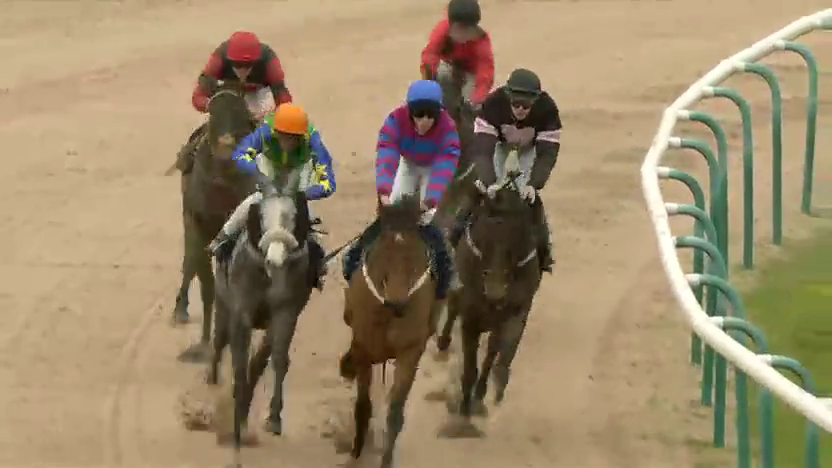jockey: (473, 69, 563, 208), (381, 86, 455, 226), (241, 107, 331, 222), (198, 31, 287, 139), (422, 3, 491, 126)
